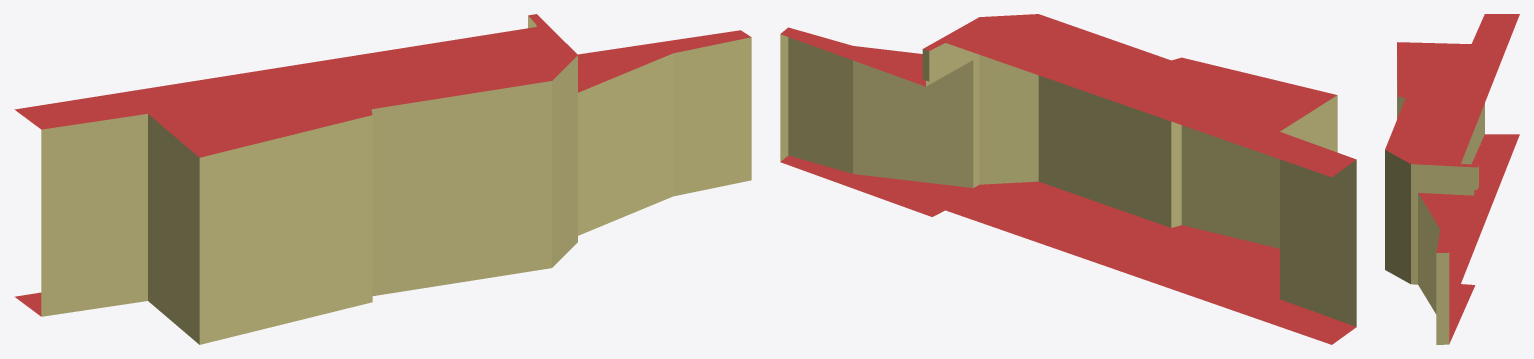
3 renders of one model, left to right at view 1: azimuth 30°, elevation 25°; view 2: azimuth 150°, elevation 25°; view 3: azimuth 270°, elevation 25°, orthographic. The views are drawn at different scales.
Visible parts, largest first — view 1: group_7, group_6, group_4, group_3; view 2: group_7, group_6, group_4, group_8, group_5, group_3; view 3: group_6, group_7, group_8, group_4, group_3, group_5.
Part boxes in pixels (<box>): group_7: <box>41,15,577,344</box>; group_6: <box>14,14,577,157</box>; group_4: <box>578,37,751,235</box>; group_3: <box>578,30,751,92</box>; group_7: <box>922,43,1356,326</box>; group_6: <box>923,14,1356,177</box>; group_4: <box>780,34,973,187</box>; group_8: <box>956,181,1356,344</box>; group_5: <box>780,155,997,216</box>; group_3: <box>780,27,925,86</box>; group_6: <box>1385,14,1519,167</box>; group_7: <box>1385,55,1484,284</box>; group_8: <box>1449,134,1519,279</box>; group_4: <box>1418,193,1449,344</box>; group_3: <box>1418,193,1473,252</box>; group_5: <box>1449,279,1475,343</box>.
Bounding box in the file's own units: 43.17 × 11.69 × 11.48.
